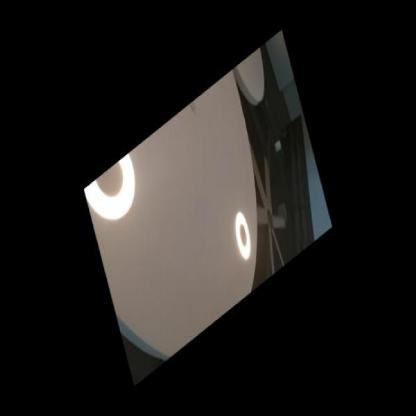light_on: (84, 146, 149, 241), (225, 194, 261, 272)
